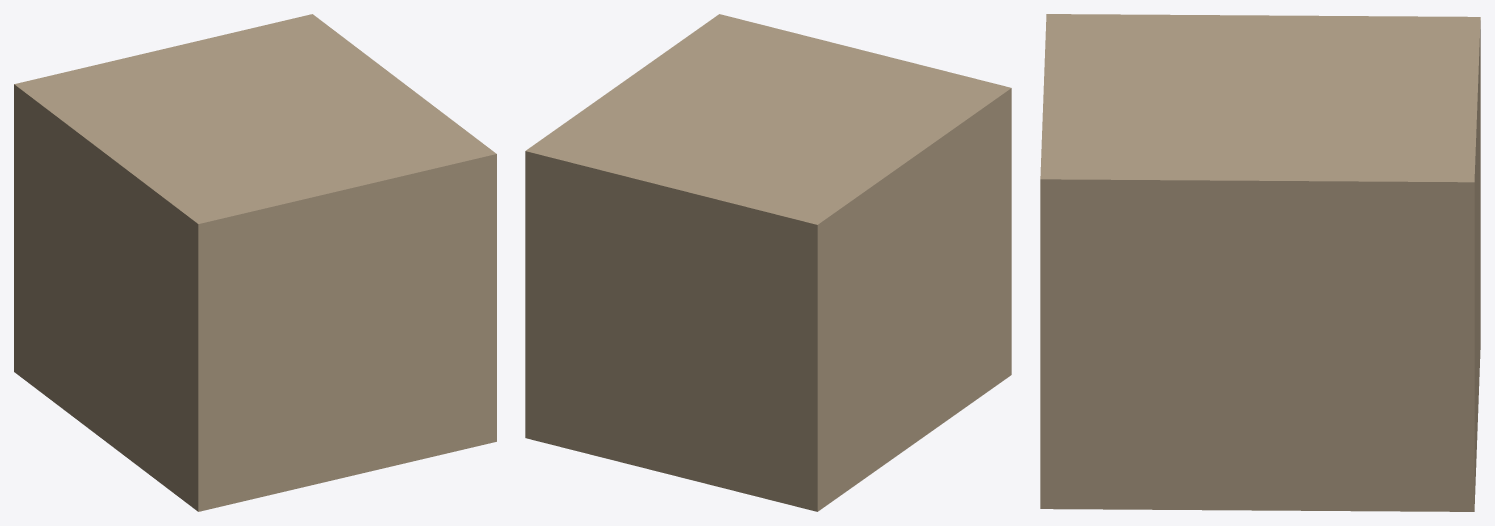
The model's file is bld_163484279.dae.
The picture shows the model from 3 angles, left to right: view 1: azimuth 30°, elevation 25°; view 2: azimuth 150°, elevation 25°; view 3: azimuth 270°, elevation 25°; orthographic projection. The views are drawn at different scales.
Parts seen in each view (by area): view 1: bld_163484279; view 2: bld_163484279; view 3: bld_163484279.
Boxes of the visible parts, left/top/right/bottom form: bld_163484279: left=14, top=14, right=496, bottom=511; bld_163484279: left=525, top=14, right=1011, bottom=511; bld_163484279: left=1040, top=14, right=1480, bottom=511.
Size of the model in its own units: 8.76 by 9.68 by 8.
